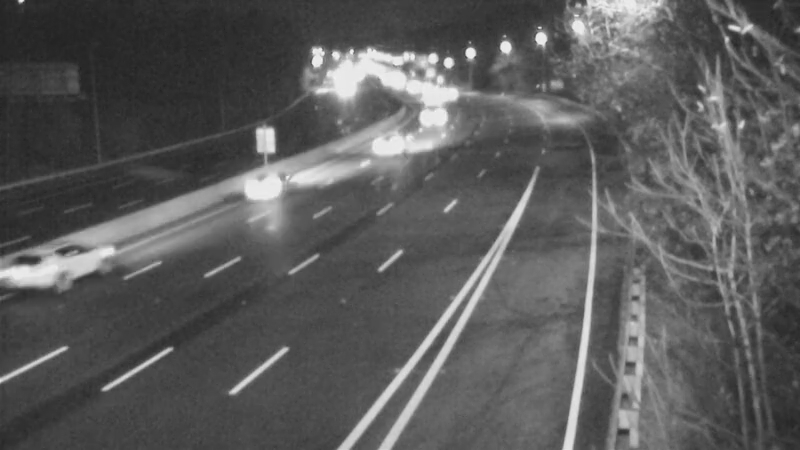vehicle: (221, 145, 301, 225), (1, 222, 76, 302), (408, 75, 458, 125), (409, 84, 459, 134), (364, 119, 414, 169)
